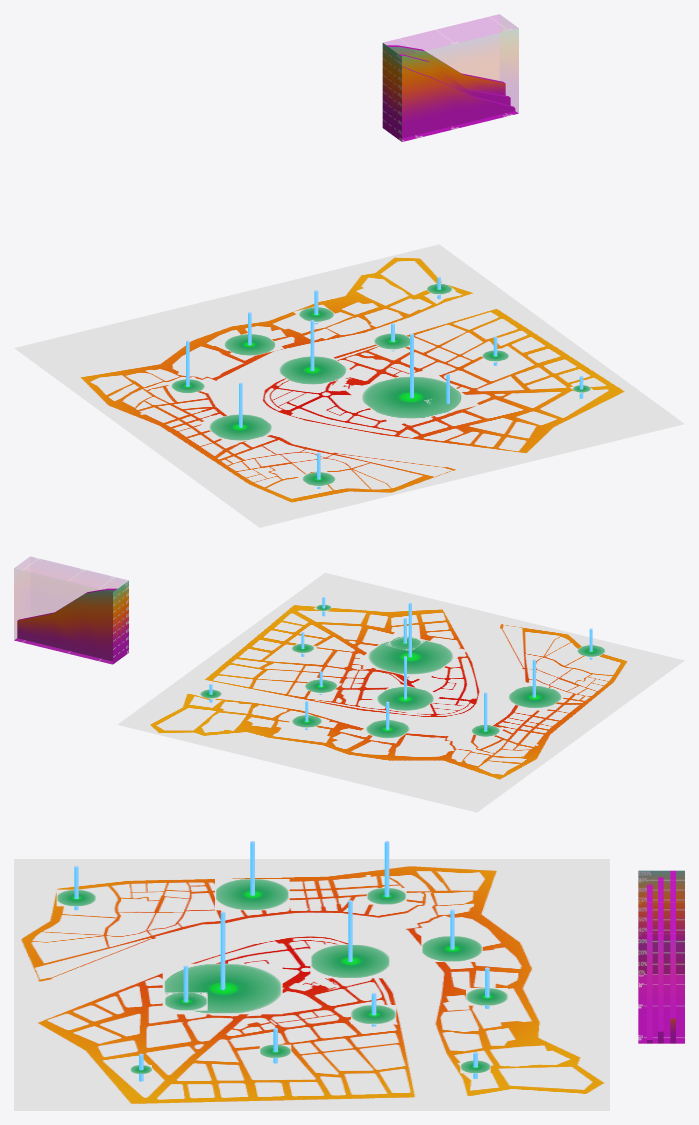
File: SHxunxi.fbx
The picture shows the model from 3 angles, top to bottom: view 1: azimuth 30°, elevation 25°; view 2: azimuth 150°, elevation 25°; view 3: azimuth 270°, elevation 25°; orthographic projection. The views are drawn at different scales.
Visible parts, largest first — view 1: pPlane1, pCube2, pCube4, pPlane2, pPlane5, pCube5, pPlane7, pCube3, pPlane11; view 2: pPlane1, pCube2, pCube5, pPlane2, pPlane5, pPlane7, pPlane11, pPlane9; view 3: pPlane1, pCube2, pPlane2, pPlane5, pPlane7, pPlane11, pCube5, pCube3, pCube4, pPlane9, pPlane3, pPlane10 (+4 smaller).
Boxes of the visible parts, <box> form: pPlane1: <box>14,244,684,527</box>; pCube2: <box>382,14,518,141</box>; pCube4: <box>396,64,515,138</box>; pPlane2: <box>345,369,478,425</box>; pPlane5: <box>268,351,357,389</box>; pCube5: <box>386,45,505,131</box>; pPlane7: <box>199,409,282,444</box>; pCube3: <box>391,54,510,135</box>; pPlane11: <box>216,330,283,358</box>; pPlane1: <box>117,572,684,812</box>; pCube2: <box>14,556,128,664</box>; pCube5: <box>17,588,117,661</box>; pPlane2: <box>354,632,467,680</box>; pPlane5: <box>367,682,442,714</box>; pPlane7: <box>500,682,569,711</box>; pPlane11: <box>359,717,416,741</box>; pPlane9: <box>300,677,342,695</box>; pPlane1: <box>14,859,609,1110</box>; pCube2: <box>638,870,684,1043</box>; pPlane2: <box>162,963,282,1014</box>; pPlane5: <box>310,944,390,978</box>; pPlane7: <box>215,879,289,910</box>; pPlane11: <box>421,936,482,961</box>; pCube5: <box>670,870,675,1043</box>; pCube3: <box>658,877,663,1043</box>; pCube4: <box>647,884,652,1043</box>; pPlane9: <box>351,1005,396,1024</box>; pPlane3: <box>164,992,207,1010</box>; pPlane10: <box>466,988,507,1005</box>.
Size of the model in its own units: 486389 by 167379 by 450951.
5 materials, 4 textured.
